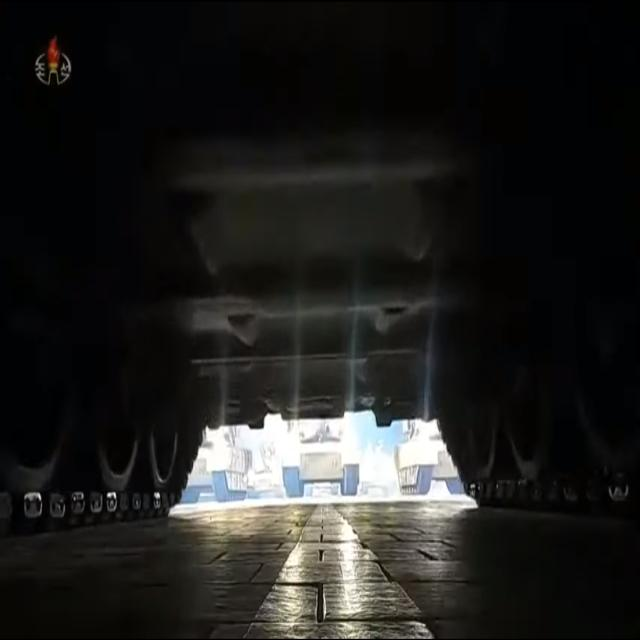north tank: (276, 419, 370, 505), (399, 415, 471, 514)
